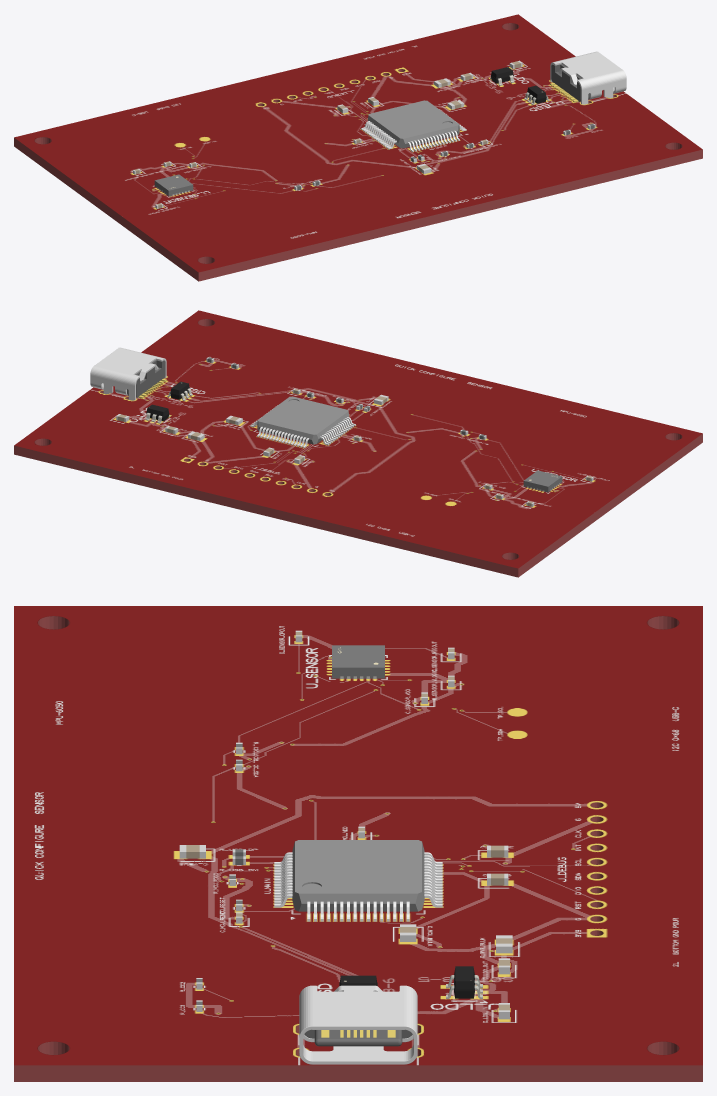
The picture shows the model from 3 angles, top to bottom: view 1: azimuth 30°, elevation 25°; view 2: azimuth 150°, elevation 25°; view 3: azimuth 270°, elevation 25°; orthographic projection. The views are drawn at different scales.
Visible parts, largest first — view 1: Box0, U_MAIN, J_USB, U_SENSOR; view 2: Box0, U_MAIN, J_USB, U_SENSOR; view 3: Box0, U_MAIN, J_USB, U_SENSOR, U_LDO.
Part boxes in pixels (box(x1,y1,x2,y2)): Box0: box(14, 14, 702, 281); U_MAIN: box(361, 100, 466, 152); J_USB: box(550, 51, 626, 104); U_SENSOR: box(154, 174, 193, 196); Box0: box(14, 310, 702, 577); U_MAIN: box(250, 396, 355, 448); J_USB: box(90, 347, 166, 400); U_SENSOR: box(523, 470, 562, 492); Box0: box(14, 606, 702, 1081); U_MAIN: box(274, 840, 442, 921); J_USB: box(299, 985, 417, 1064); U_SENSOR: box(332, 645, 384, 678); U_LDO: box(446, 966, 482, 998).
Bounding box in the file's own units: 82.04 × 4.65 × 52.
Materials: 17 (2 with a texture image).
